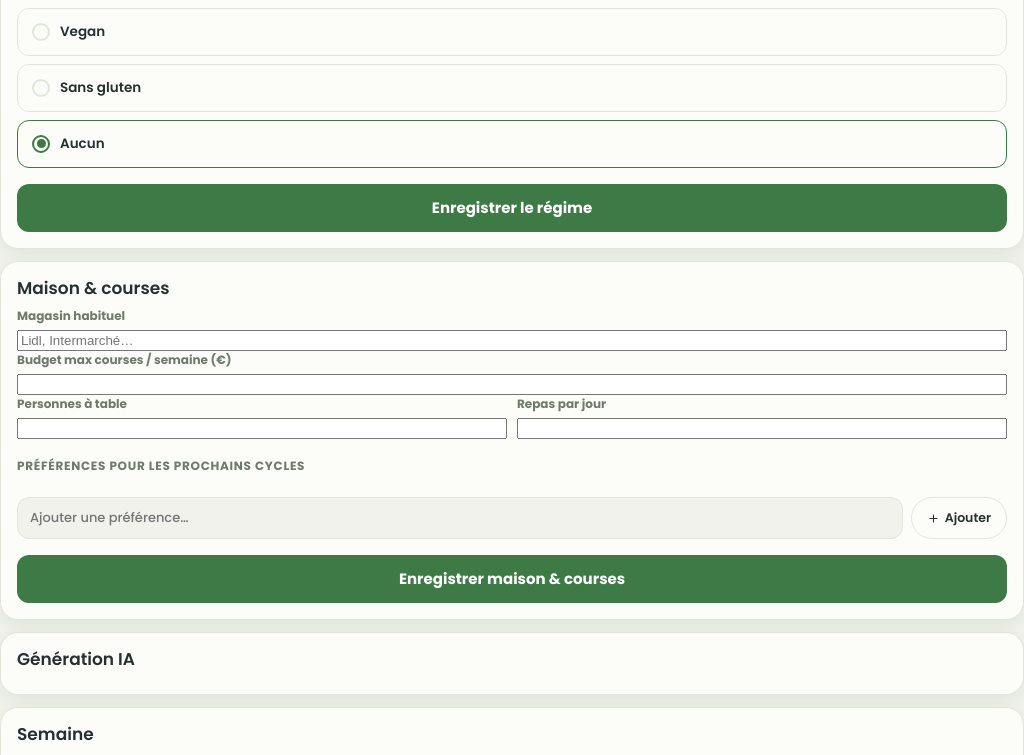
Test: ProfilScreen — Maison & courses › refuse un budget max invalide (erreur rendue dans la section)
(page scrolled)
Type "0" into the field labelled "Budget max courses / semaine (€)" at (512, 385), box [17,374,1007,395]
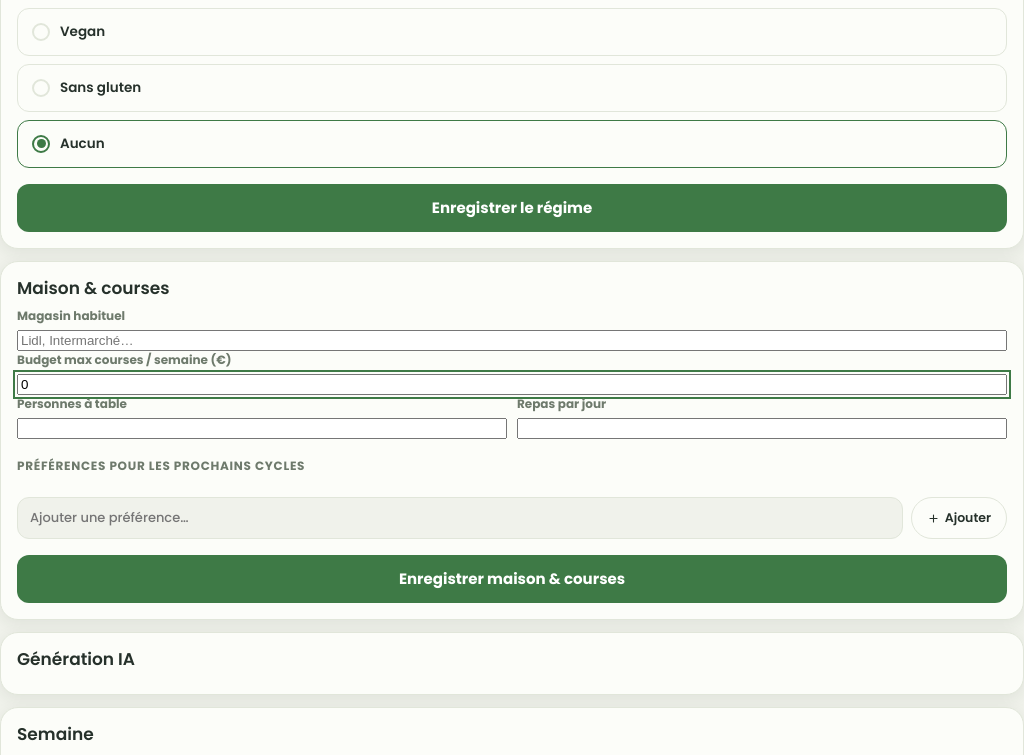
Click the button "Enregistrer maison & courses" at (512, 579), box [17,555,1007,603]
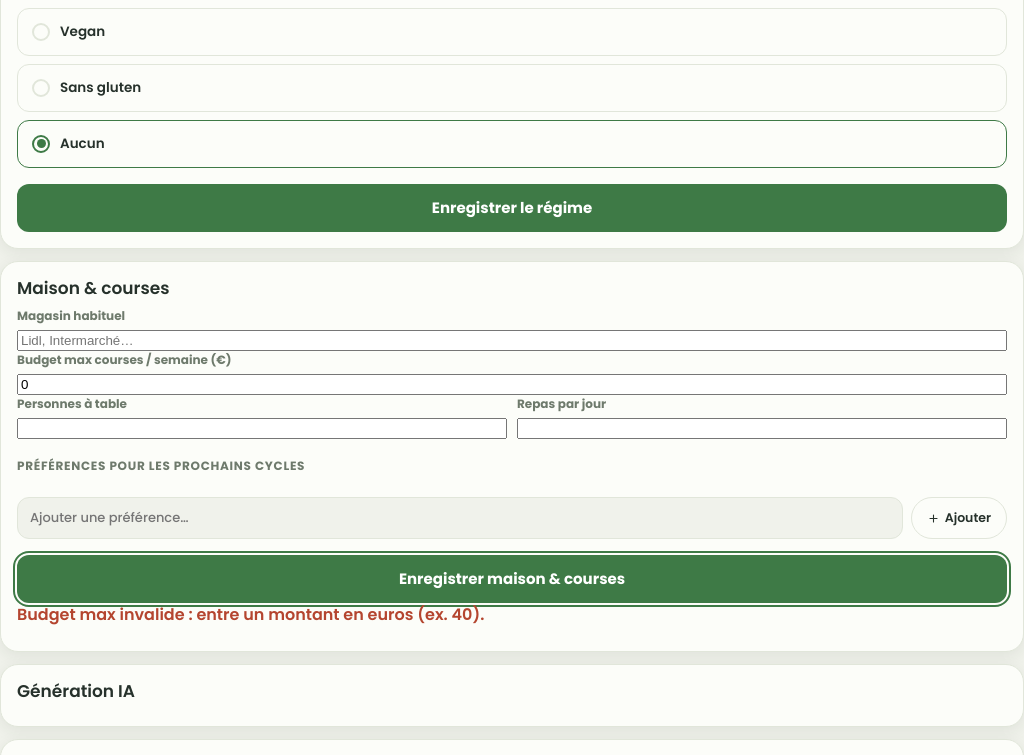
Expected: the message shows "Budget max invalide", [17,603,484,626]
